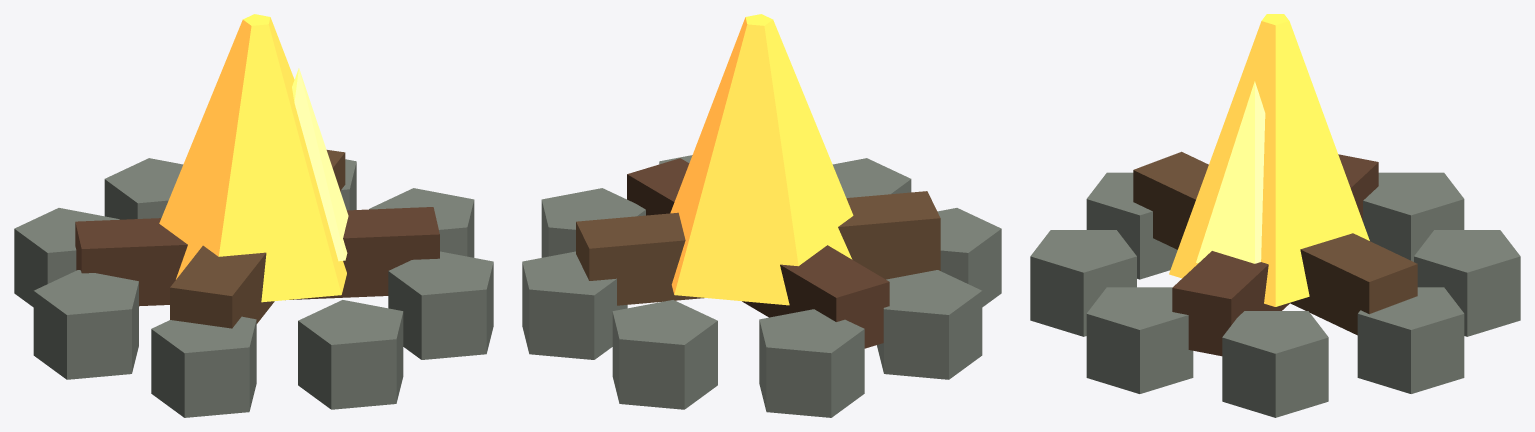
File: campfire.glb
3 views of the same model, side by side, from view 1: azimuth 30°, elevation 25°; view 2: azimuth 150°, elevation 25°; view 3: azimuth 270°, elevation 25° (orthographic).
Parts seen in each view (by area): view 1: campfire; view 2: campfire; view 3: campfire.
Part boxes in pixels (x1,y1,x2,y2): campfire: (14, 14, 493, 417); campfire: (522, 14, 1001, 417); campfire: (1030, 14, 1520, 417).
Size of the model in its own units: 1.64 by 1.1 by 1.66.
